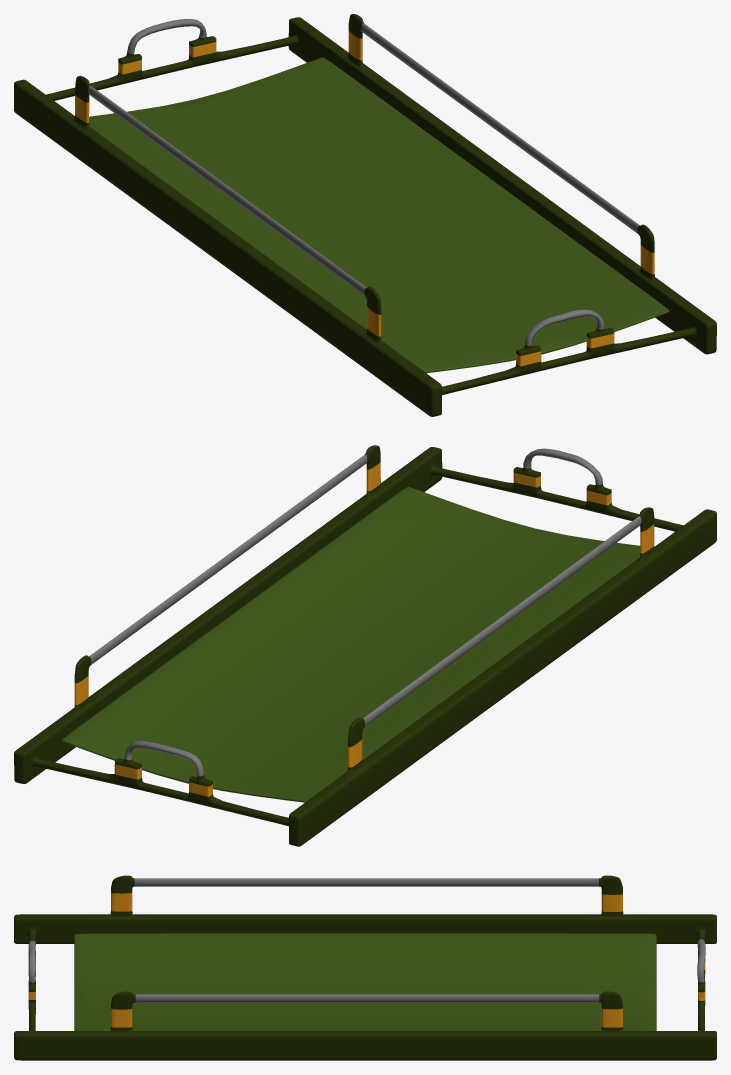
Rendered from Camilla.fbx.
3 renders of one model, top to bottom at view 1: azimuth 30°, elevation 25°; view 2: azimuth 150°, elevation 25°; view 3: azimuth 270°, elevation 25°, orthographic. The views are drawn at different scales.
Visible parts, largest first — view 1: Cube, Cube.001; view 2: Cube, Cube.001; view 3: Cube, Cube.001.
Part boxes in pixels (box(x1,y1,x2,y2)): Cube: box(89, 57, 669, 373); Cube.001: box(14, 14, 716, 416); Cube: box(62, 487, 640, 802); Cube.001: box(14, 445, 716, 846); Cube: box(74, 933, 656, 1030); Cube.001: box(14, 875, 716, 1060).
Size of the model in its own units: 6.21 by 1.74 by 15.67.
